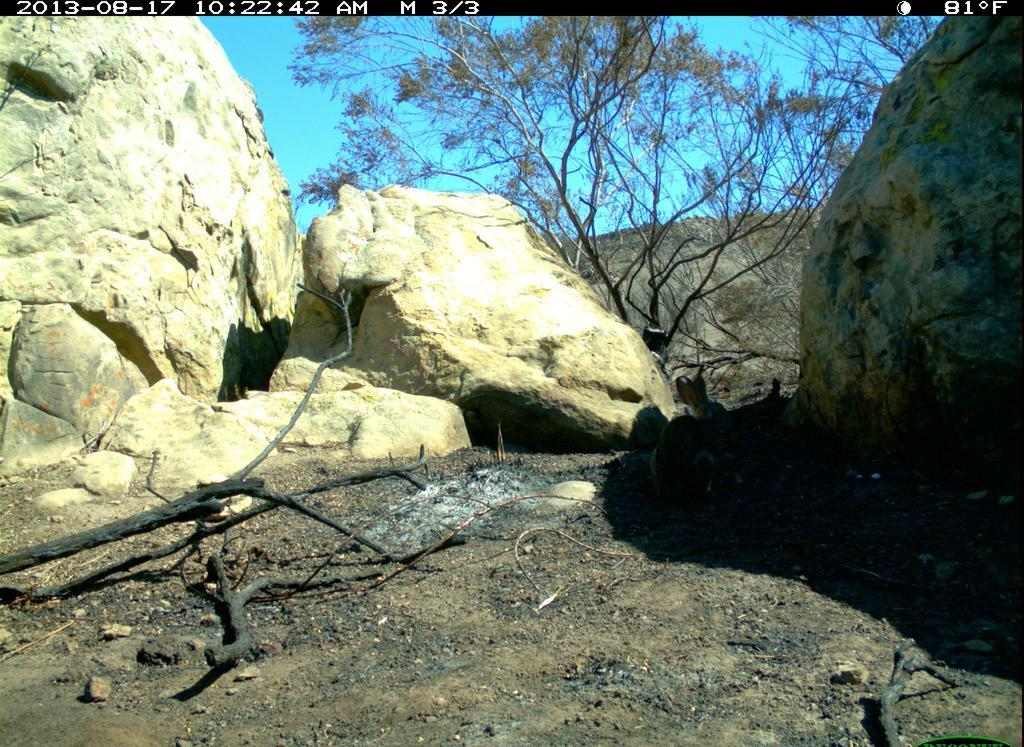rabbit: (643, 363, 742, 514)
